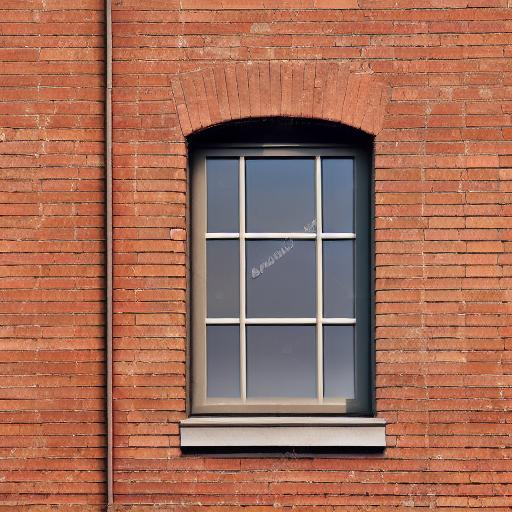Window: (166, 63, 395, 451)
